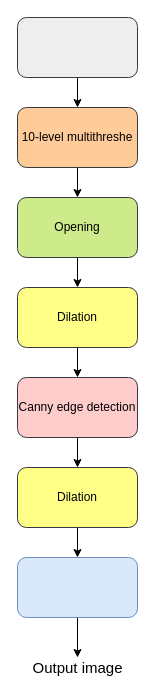
The diagram is 155 pixels wide and 695 high, and some of its shapes have lost their labels. The shapes that lost their labels are listed below. From the top down, each one's box as (x1, y1, x2, y2) in pixels, then its label:
(16, 16, 138, 78): Gaussian Filter
(16, 556, 138, 618): Circle hough transform
